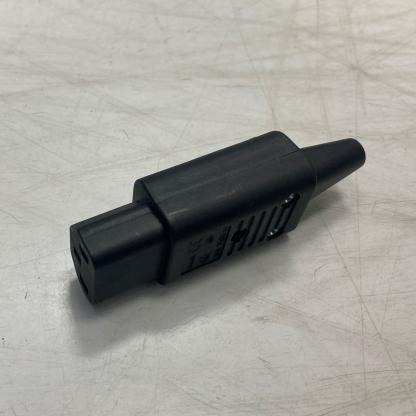SP0000006: (37, 81, 395, 326)
